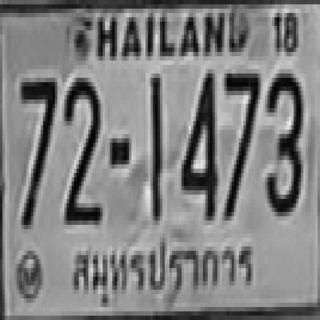N01: (149, 71, 161, 218)
N02: (62, 74, 100, 220)
N03: (263, 69, 301, 212)
N04: (179, 69, 215, 216)
N07: (222, 69, 258, 216), (19, 78, 55, 225)
P57: (68, 237, 258, 304)
